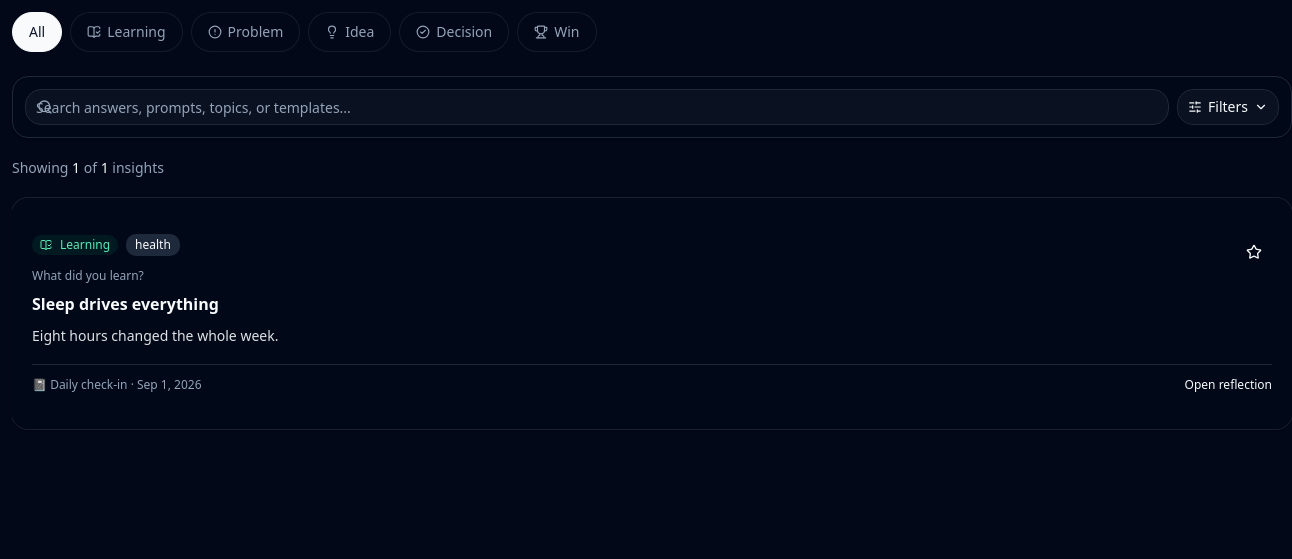
JournalInsights filters › says how many filters are on, so a hidden one cannot be forgotten
Click the button "Filters": (1228,107) [1177,89,1279,125]
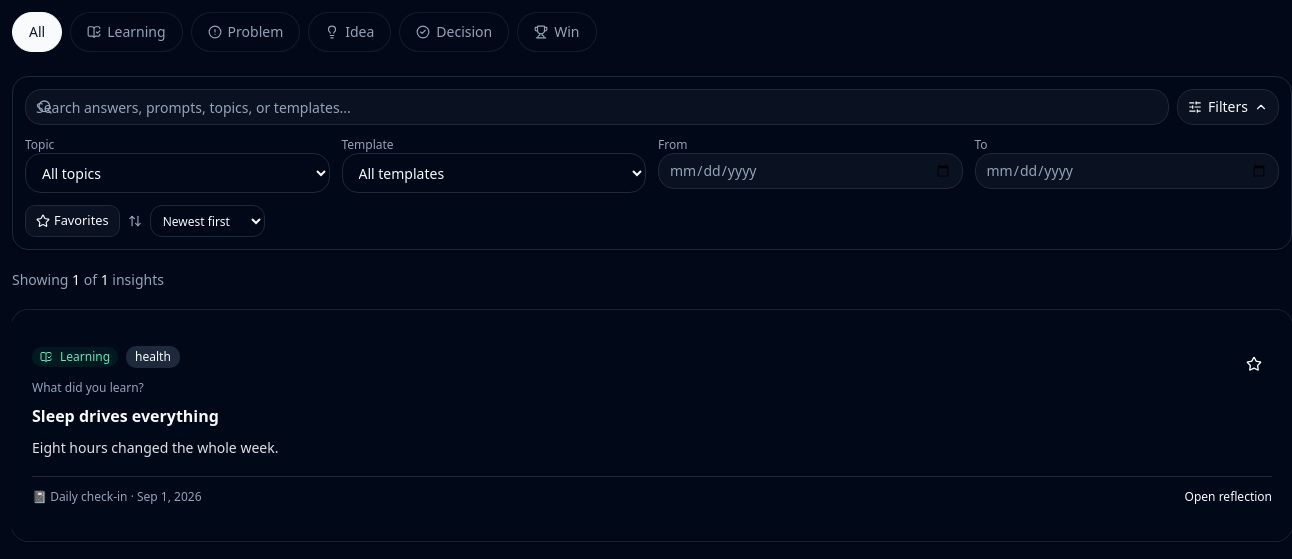
Select "health" in the dropdown labelled "Topic": (177,173) [25,153,330,193]
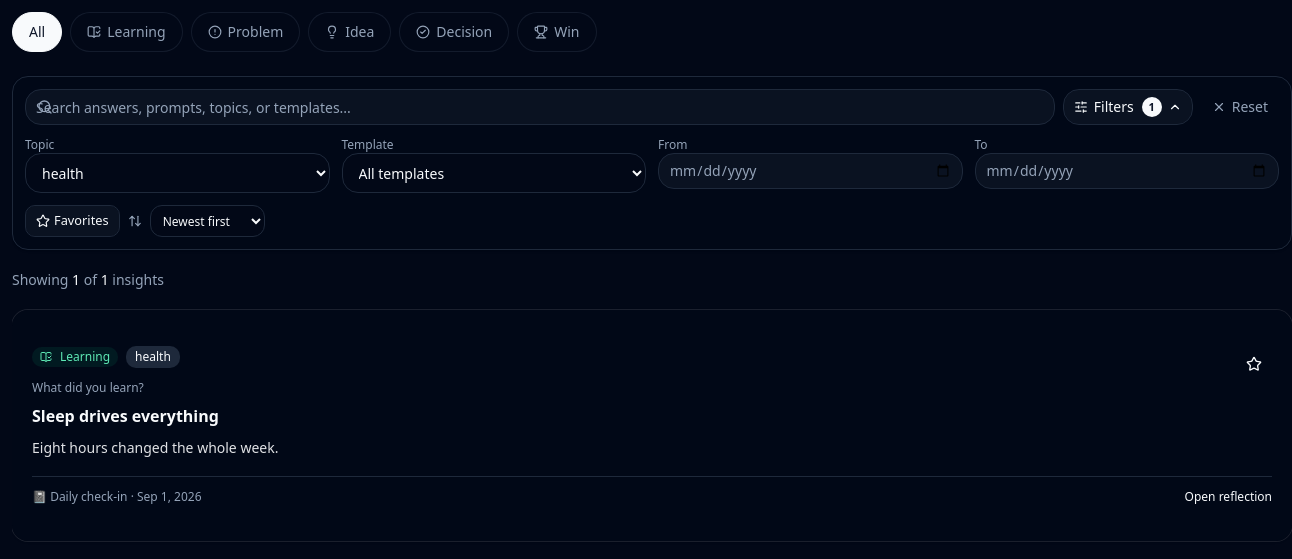
Check: the button "Filters 1" is shown, box [1063,89,1193,125]
